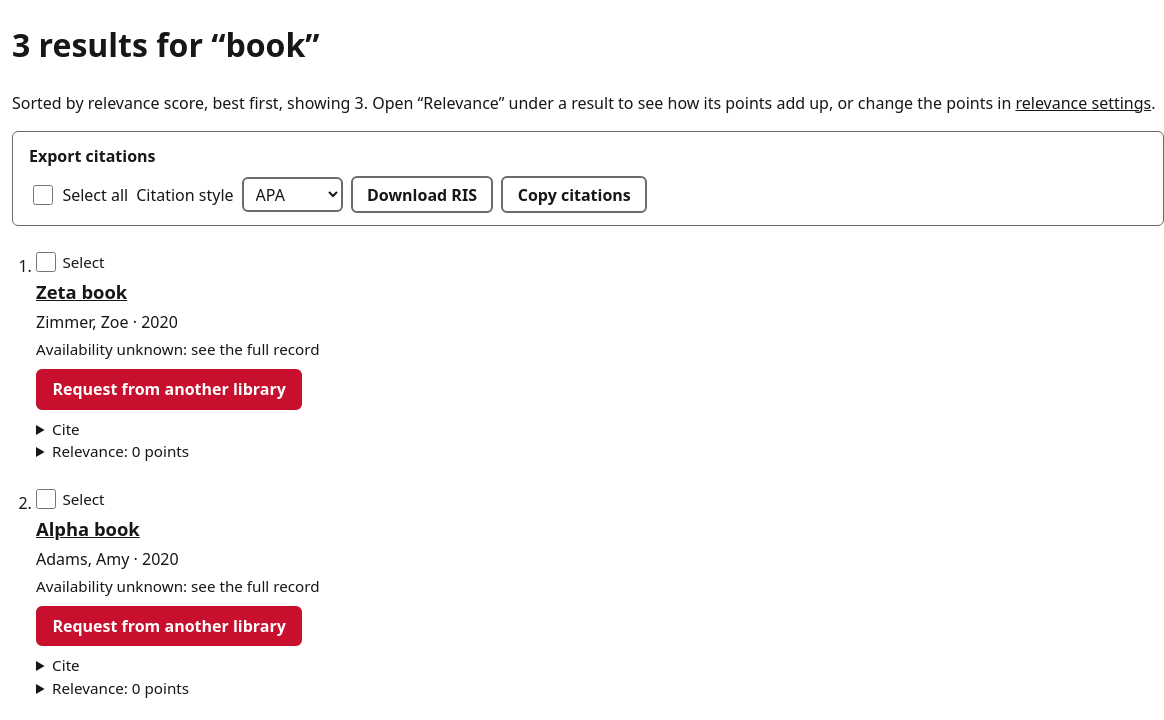
Scenario: nothing selected
The width and height of the screenshot is (1164, 720).
What coordinates should you click on to do the following:
click the button "Copy citations"
I would click on:
 (574, 195)
Its box is [501,176,647,214].
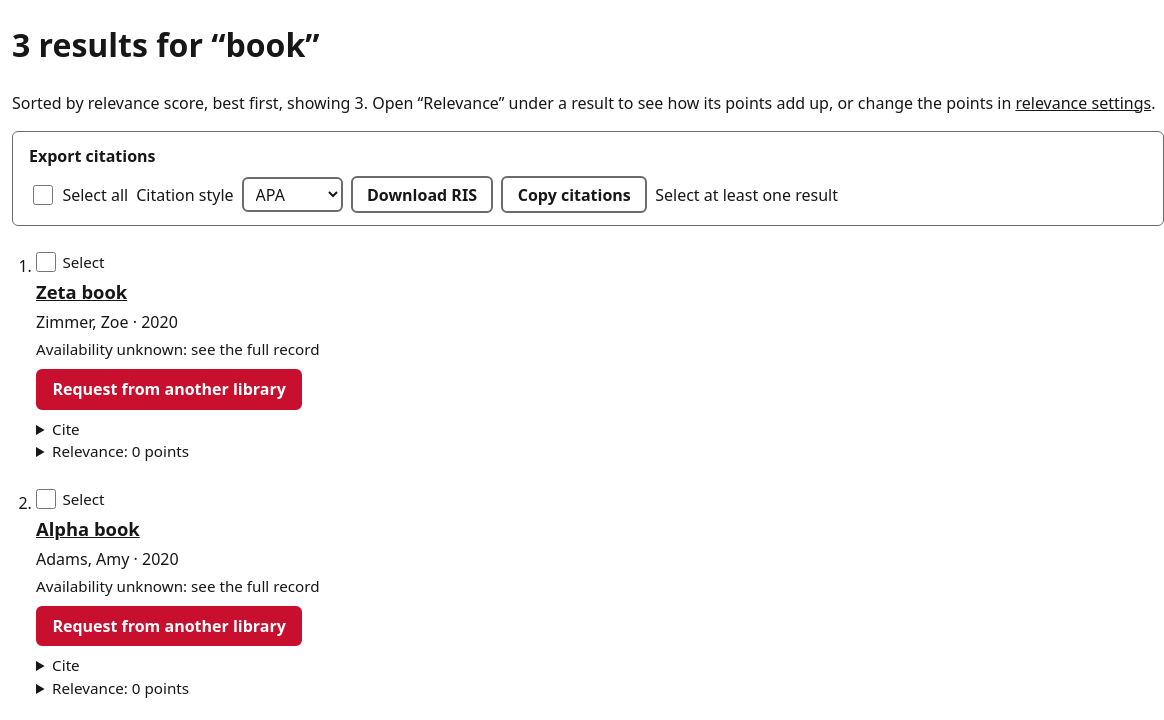
Expected: the message "Select at least one result" is shown, [655,183,838,207]
